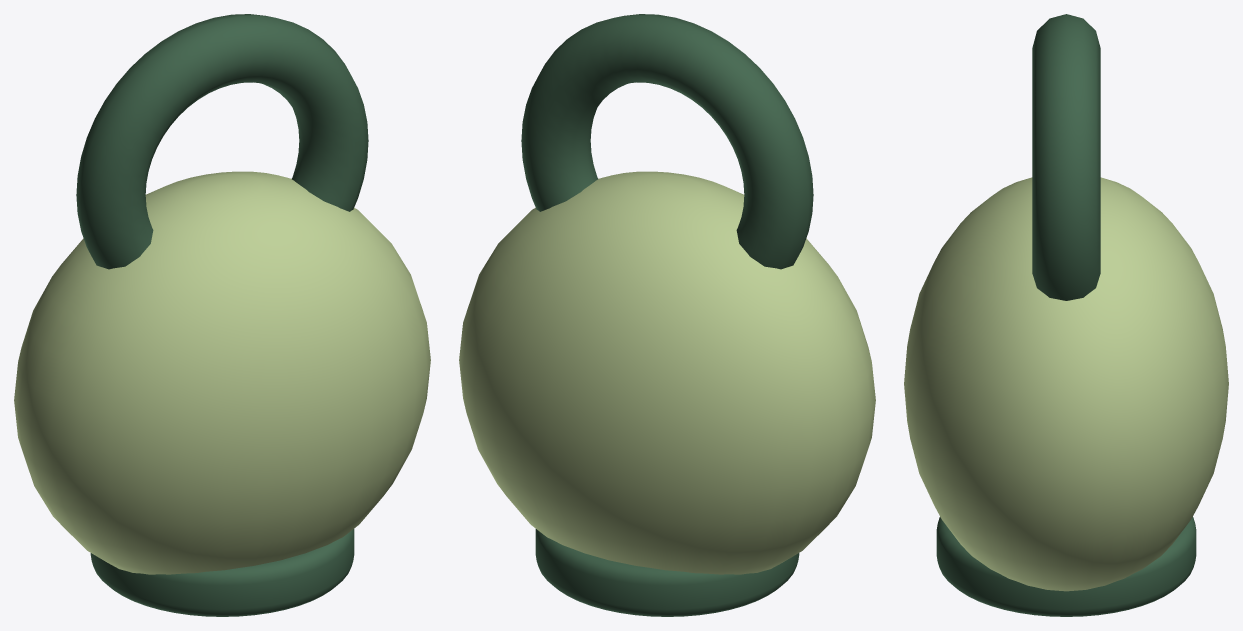
Rendered from kettlebell-green.glb.
3 renders of one model, left to right at view 1: azimuth 30°, elevation 25°; view 2: azimuth 150°, elevation 25°; view 3: azimuth 270°, elevation 25°, orthographic.
Visible parts, largest first — view 1: Cast body, Grip, Flat foot; view 2: Cast body, Grip, Flat foot; view 3: Cast body, Grip, Flat foot.
Boxes of the visible parts, box(x1,y1,x2,y2) form: Cast body: box(14, 171, 430, 574); Grip: box(76, 14, 368, 269); Flat foot: box(90, 529, 354, 616); Cast body: box(459, 171, 875, 574); Grip: box(521, 14, 813, 269); Flat foot: box(535, 529, 799, 616); Cast body: box(904, 177, 1228, 591); Grip: box(1032, 14, 1100, 300); Flat foot: box(936, 517, 1196, 616).
Bounding box in the file's own units: 1.34 × 1.85 × 1.
